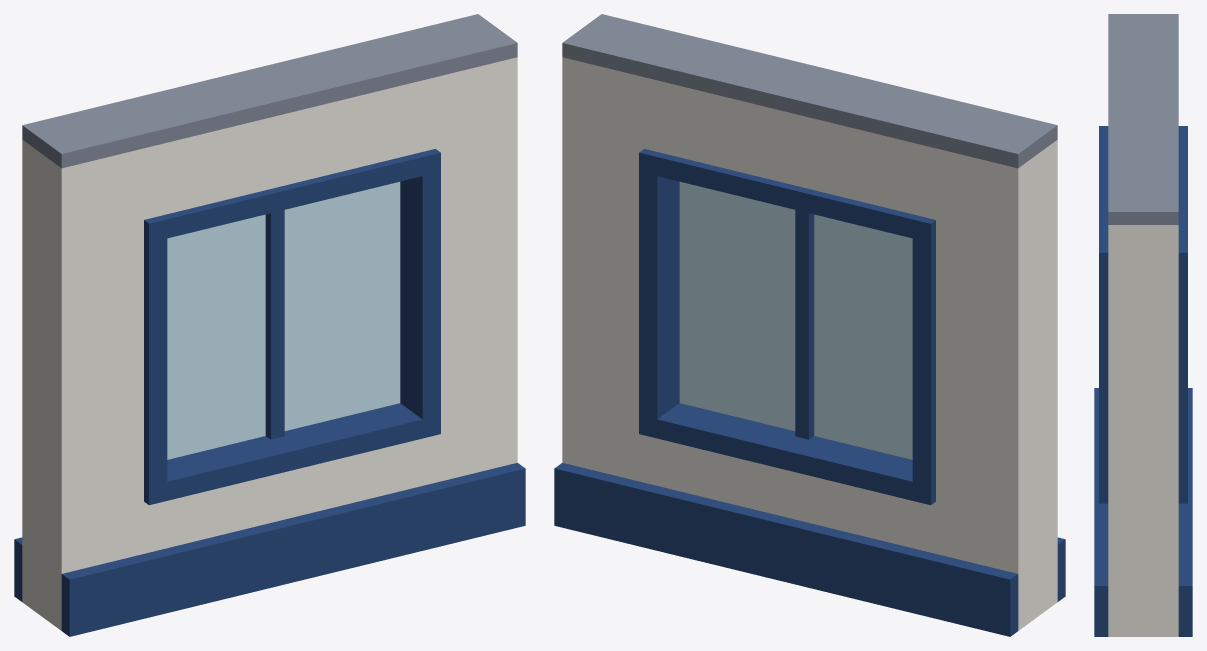
The model's file is wall-window.glb.
3 renders of one model, left to right at view 1: azimuth 30°, elevation 25°; view 2: azimuth 150°, elevation 25°; view 3: azimuth 270°, elevation 25°, orthographic. The views are drawn at different scales.
Visible parts, largest first — view 1: wall-window; view 2: wall-window; view 3: wall-window.
Part boxes in pixels (x1,y1,x2,y2): wall-window: [14, 14, 525, 636]; wall-window: [554, 14, 1065, 636]; wall-window: [1094, 14, 1192, 636].
Bounding box in the file's own units: 1 × 1 × 0.21.
Materials: 1 (1 with a texture image).
